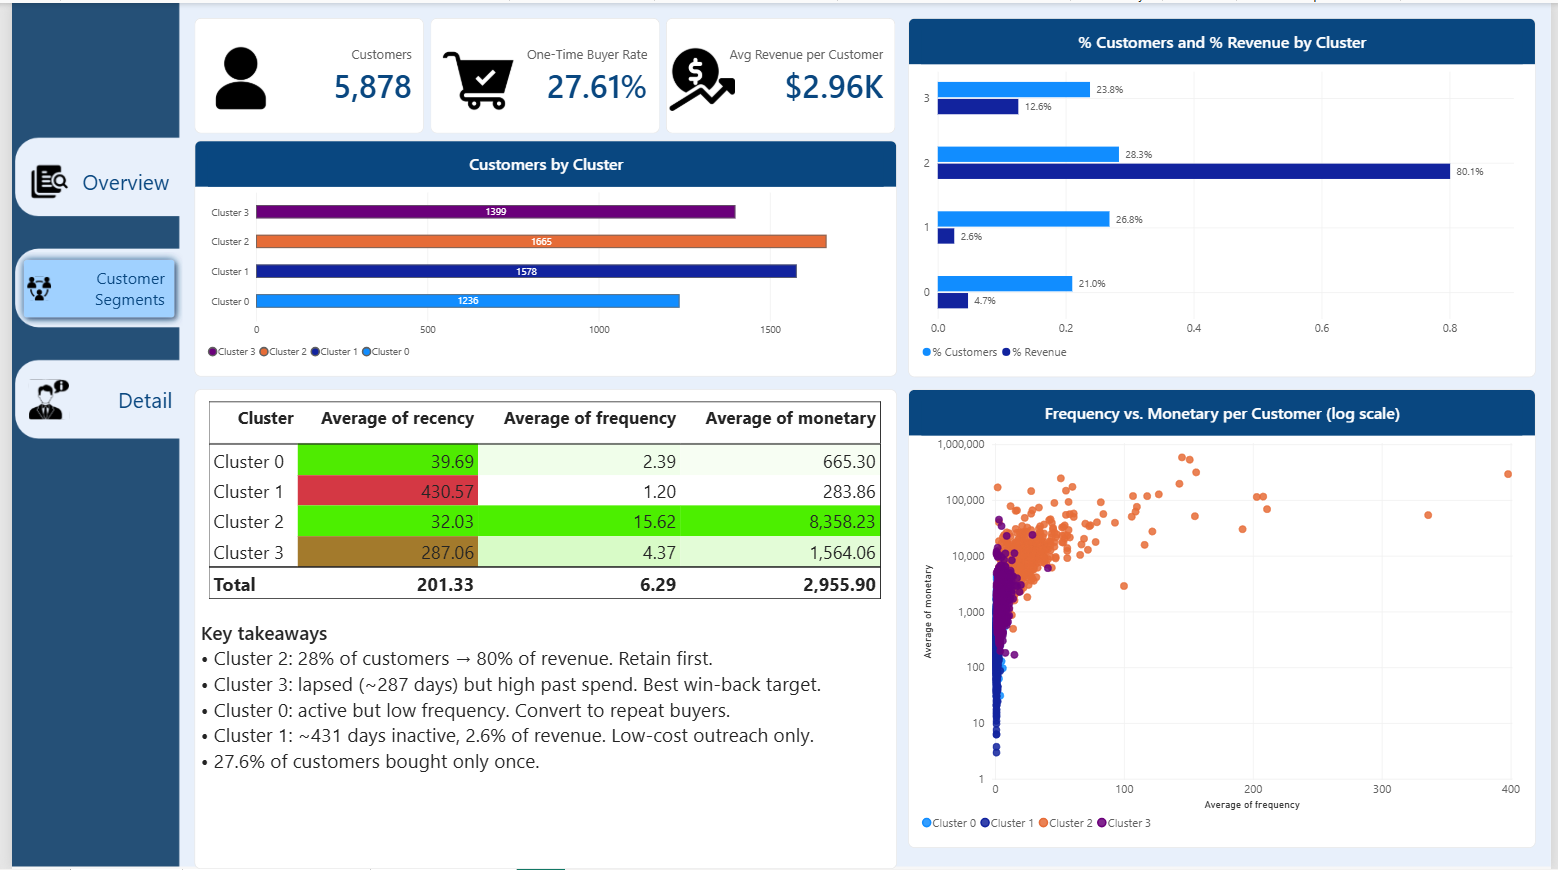

The page's visual inventory and layout, read from the dashboard file:
{"tool":"powerbi","page":{"name":"Customer Segments","canvas":[1920,1080],"ordinal":1},"visuals":[{"type":"barChart","title":"Customers by Cluster","fields":{"Category":["dim_customer.Cụm"],"Series":["dim_customer.Cụm"],"Y":["fact_sales.Số khách"]},"box":[228,172,876,294],"z":0},{"type":"tableEx","fields":{"Values":["dim_customer.Cluster","dim_customer.recency","dim_customer.frequency","dim_customer.monetary"]},"box":[228,482,876,598],"z":1000},{"type":"cardVisual","fields":{"Data":["fact_sales.Số khách","fact_sales.Tỷ lệ khách mua 1 lần","fact_sales.Doanh thu TB mỗi khách"]},"box":[228,18,876,144],"z":2000},{"type":"scatterChart","title":"Frequency vs. Monetary per Customer (log scale)","fields":{"Category":["dim_customer.customer_id"],"Series":["dim_customer.Cụm"],"X":["dim_customer.frequency"],"Y":["dim_customer.monetary"]},"box":[1118,482,782,572],"z":3000},{"type":"clusteredBarChart","title":"% Customers and % Revenue by Cluster","fields":{"Category":["dim_customer.cluster_id"],"Y":["fact_sales.% Customers","fact_sales.% Revenue"]},"box":[1118,18,782,448],"z":4000},{"type":"textbox","box":[234.8,768.9,850.3,310.6],"z":5000},{"type":"actionButton","title":"OVERVIEW","box":[17,176.1,191.3,92.8],"z":6000},{"type":"actionButton","title":"OVERVIEW","box":[4,310,208,92],"z":7000},{"type":"actionButton","title":"OVERVIEW","box":[17,448.8,195.1,90.9],"z":8000},{"type":"image","box":[816.7,53.3,88.3,81.7],"z":10000},{"type":"image","box":[523.3,53.3,115,88.3],"z":11000},{"type":"image","box":[235,53.3,100,81.7],"z":12000}]}

Visuals, with their boxes on the page's 1920x1080 design canvas (x1, y1, x2, y2). These are canvas units, not pixel positions in the 1558x870 screenshot, which may show the page scaled, cropped or inside an application window:
"Customers by Cluster" barChart: (228, 172, 1104, 466)
tableEx - dim_customer.Cluster x dim_customer.recency: (228, 482, 1104, 1080)
cardVisual - fact_sales.Số khách x fact_sales.Tỷ lệ khách mua 1 lần: (228, 18, 1104, 162)
"Frequency vs. Monetary per Customer (log scale)" scatterChart: (1118, 482, 1900, 1054)
"% Customers and % Revenue by Cluster" clusteredBarChart: (1118, 18, 1900, 466)
textbox: (235, 769, 1085, 1080)
"OVERVIEW" actionButton: (17, 176, 208, 269)
"OVERVIEW" actionButton: (4, 310, 212, 402)
"OVERVIEW" actionButton: (17, 449, 212, 540)
image: (817, 53, 905, 135)
image: (523, 53, 638, 142)
image: (235, 53, 335, 135)
